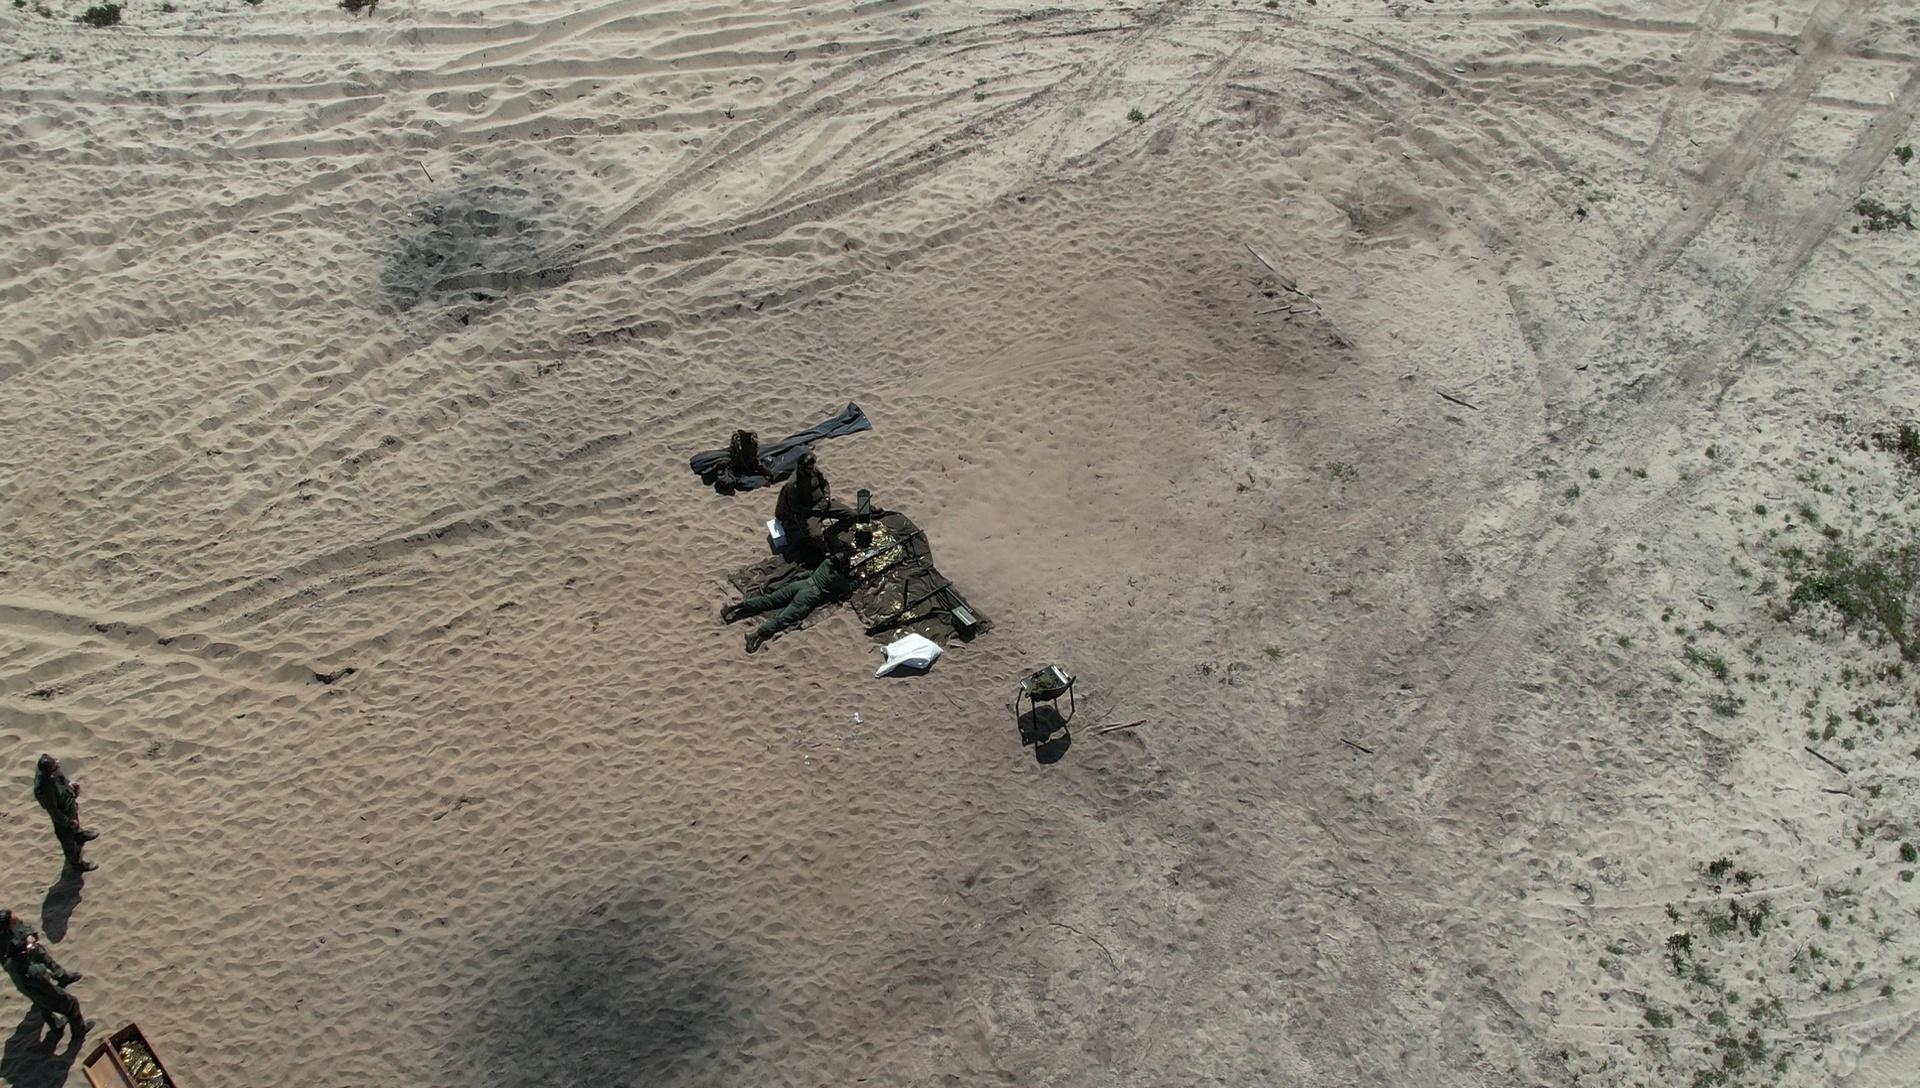Soldier: (735, 526, 882, 648), (22, 756, 113, 888), (769, 463, 860, 583), (13, 942, 84, 1058)
